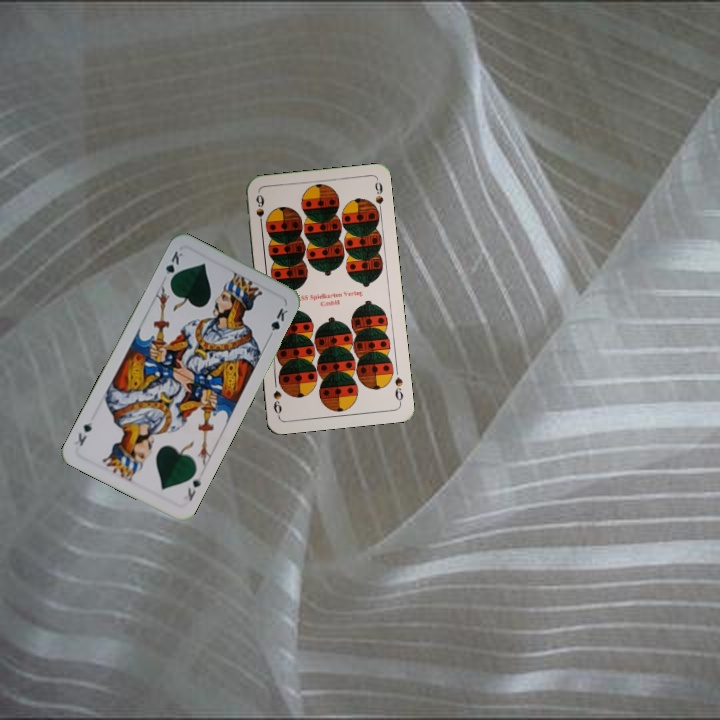GK: (161, 247, 186, 286), (183, 473, 204, 504)
S9: (252, 191, 267, 231), (391, 373, 405, 406)
